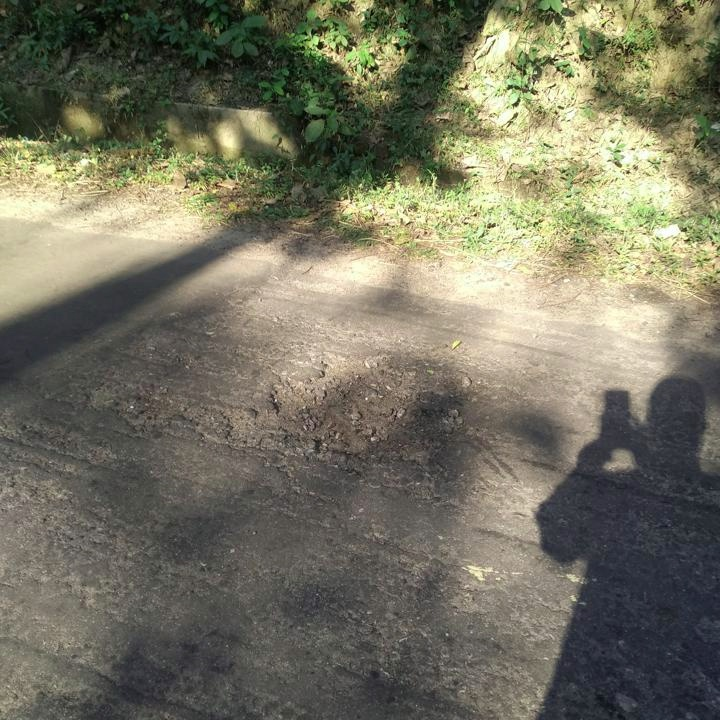pothole: (214, 347, 432, 470)
